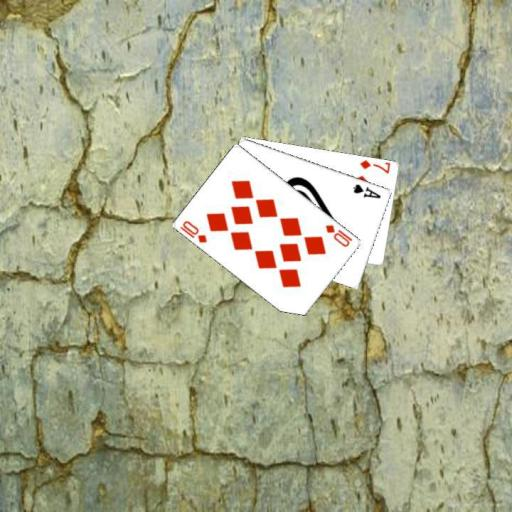10D: (177, 218, 209, 245), (323, 221, 354, 248)
7D: (357, 157, 392, 175)
AS: (351, 181, 383, 200)
